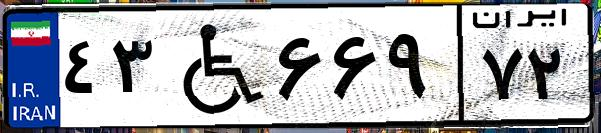2: (525, 38, 570, 115)
3: (110, 28, 158, 98)
4: (57, 26, 110, 100)
6: (270, 28, 330, 110), (330, 28, 385, 110)
7: (475, 38, 525, 113)
9: (385, 28, 445, 110)
ژ (معلولین و جانبازان): (158, 12, 270, 120)
